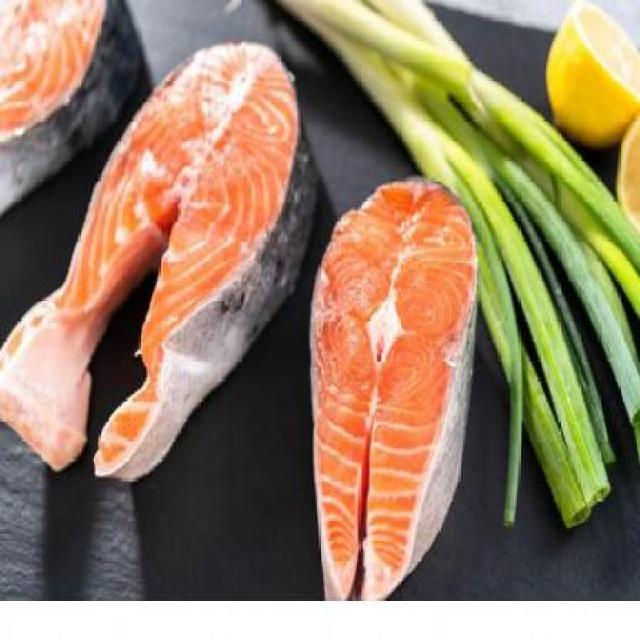salmon: (3, 43, 323, 483), (305, 172, 489, 605), (1, 4, 160, 210)
